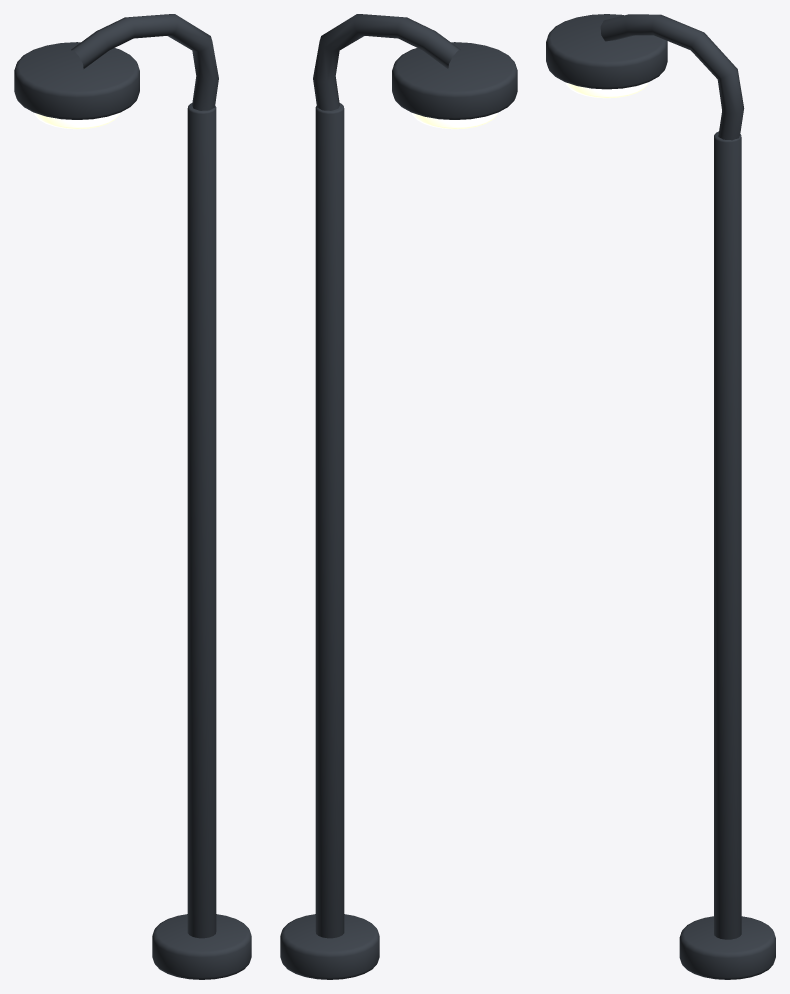
The model's file is street-lamp.glb.
The picture shows the model from 3 angles, left to right: view 1: azimuth 30°, elevation 25°; view 2: azimuth 150°, elevation 25°; view 3: azimuth 330°, elevation 25°; orthographic projection. The views are drawn at different scales.
Parts seen in each view (by area): view 1: streetLamp · Graphite metal, streetLamp · Warm diffuser; view 2: streetLamp · Graphite metal, streetLamp · Warm diffuser; view 3: streetLamp · Graphite metal, streetLamp · Warm diffuser.
Boxes of the visible parts, x1,y1,x2,y2 form: streetLamp · Graphite metal: [14, 14, 251, 979]; streetLamp · Warm diffuser: [34, 112, 119, 129]; streetLamp · Graphite metal: [280, 14, 517, 979]; streetLamp · Warm diffuser: [412, 112, 497, 129]; streetLamp · Graphite metal: [546, 14, 775, 979]; streetLamp · Warm diffuser: [565, 82, 648, 98].
Size of the model in its own units: 0.98 by 4.04 by 0.48.
